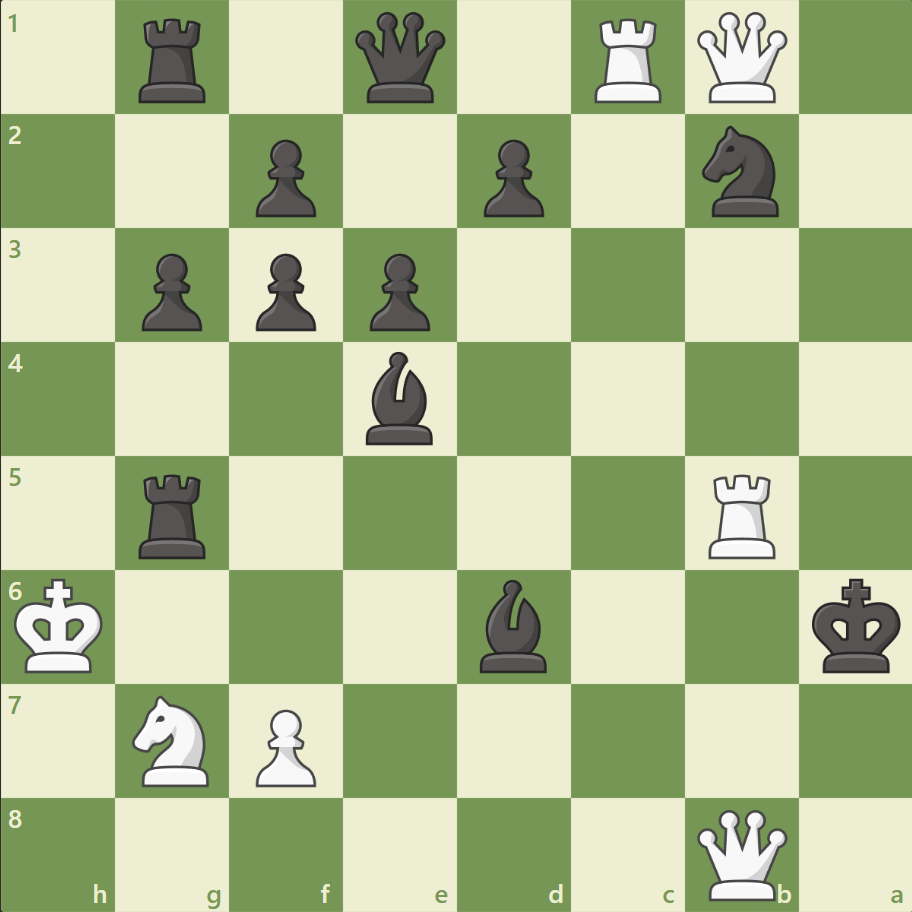K: (11, 571, 111, 679)
N: (124, 688, 222, 791)
P: (247, 700, 322, 791)
Q: (691, 804, 790, 903), (691, 9, 790, 108)
R: (700, 466, 783, 563), (587, 12, 670, 109)
b: (471, 574, 555, 676), (358, 347, 442, 449)
k: (806, 571, 906, 679)
n: (692, 121, 789, 223)
p: (247, 246, 322, 337), (133, 246, 208, 337), (474, 132, 549, 223), (247, 132, 322, 223), (361, 246, 435, 337)
q: (351, 9, 450, 108)
r: (133, 466, 215, 563), (133, 12, 215, 109)
